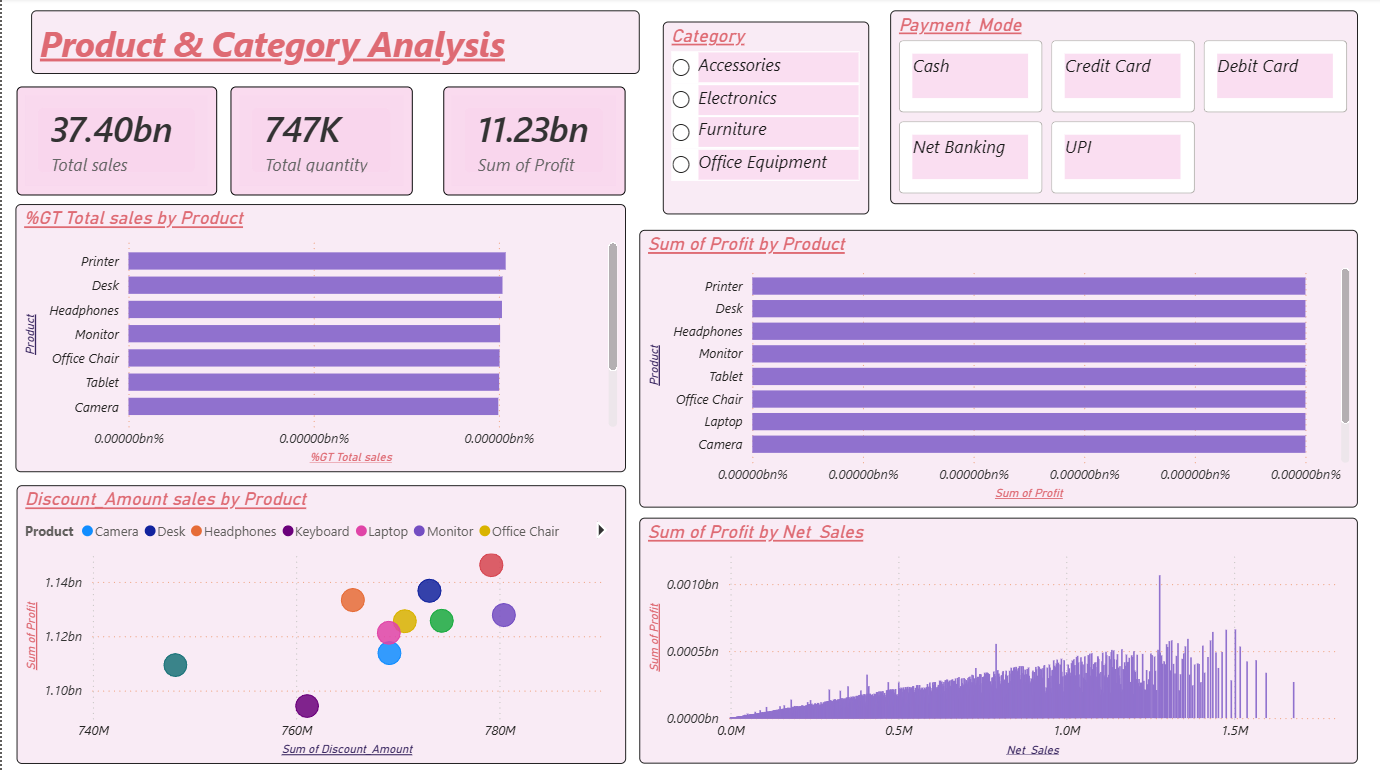

What the dashboard file says about the page in this screenshot:
{"tool":"powerbi","page":{"name":"Page 2","canvas":[1280,720],"ordinal":1},"visuals":[{"type":"cardVisual","fields":{"Data":["Sales_data_book.Total sales"]},"box":[13.5,81.9,185.6,100.6],"z":0},{"type":"cardVisual","fields":{"Data":["Sales_data_book.Total quantity"]},"box":[211.5,81.9,169,100.6],"z":1000},{"type":"textbox","box":[27,11.4,563,59.1],"z":2000},{"type":"cardVisual","fields":{"Data":["Sum(Sales_data_book.Profit)"]},"box":[408.5,81.9,169,100.6],"z":3000},{"type":"clusteredBarChart","fields":{"Category":["Sales_data_book.Product"],"Y":["Sales_data_book.Total sales"]},"box":[12.4,190.8,565,247.8],"z":4000},{"type":"hundredPercentStackedBarChart","fields":{"Y":["Sum(Sales_data_book.Profit)"],"Category":["Sales_data_book.Product"]},"box":[589.9,214.6,665.6,257.1],"z":5000},{"type":"scatterChart","title":"Discount_Amount sales by Product","fields":{"X":["Sum(Sales_data_book.Discount_Amount)"],"Y":["Sum(Sales_data_book.Profit)"],"Series":["Sales_data_book.Product"],"Size":["Sales_data_book.Total sales"]},"box":[13.5,451,564,258.2],"z":6000},{"type":"listSlicer","fields":{"Values":["Sales_data_book.Category"]},"box":[611.7,21.8,190.8,178.3],"z":7000},{"type":"advancedSlicerVisual","fields":{"Values":["Sales_data_book.Payment_Mode"]},"box":[822.2,11.4,433.4,179.4],"z":8000},{"type":"clusteredColumnChart","fields":{"Category":["Sales_data_book.Net_Sales"],"Y":["Sum(Sales_data_book.Profit)"]},"box":[589.9,481.1,665.6,228.1],"z":9000}]}

Visuals, with their boxes in screenshot pixels (x1, y1, x2, y2), scaled from the page's 1280x720 canvas onto the 1380x770 screenshot:
cardVisual - Sales_data_book.Total sales: l=15, t=88, r=215, b=195
cardVisual - Sales_data_book.Total quantity: l=228, t=88, r=410, b=195
textbox: l=29, t=12, r=636, b=75
cardVisual - Sum(Sales_data_book.Profit): l=440, t=88, r=623, b=195
clusteredBarChart - Sales_data_book.Product x Sales_data_book.Total sales: l=13, t=204, r=623, b=469
hundredPercentStackedBarChart - Sum(Sales_data_book.Profit) x Sales_data_book.Product: l=636, t=230, r=1354, b=504
"Discount_Amount sales by Product" scatterChart: l=15, t=482, r=623, b=758
listSlicer - Sales_data_book.Category: l=659, t=23, r=865, b=214
advancedSlicerVisual - Sales_data_book.Payment_Mode: l=886, t=12, r=1354, b=204
clusteredColumnChart - Sales_data_book.Net_Sales x Sum(Sales_data_book.Profit): l=636, t=515, r=1354, b=758
